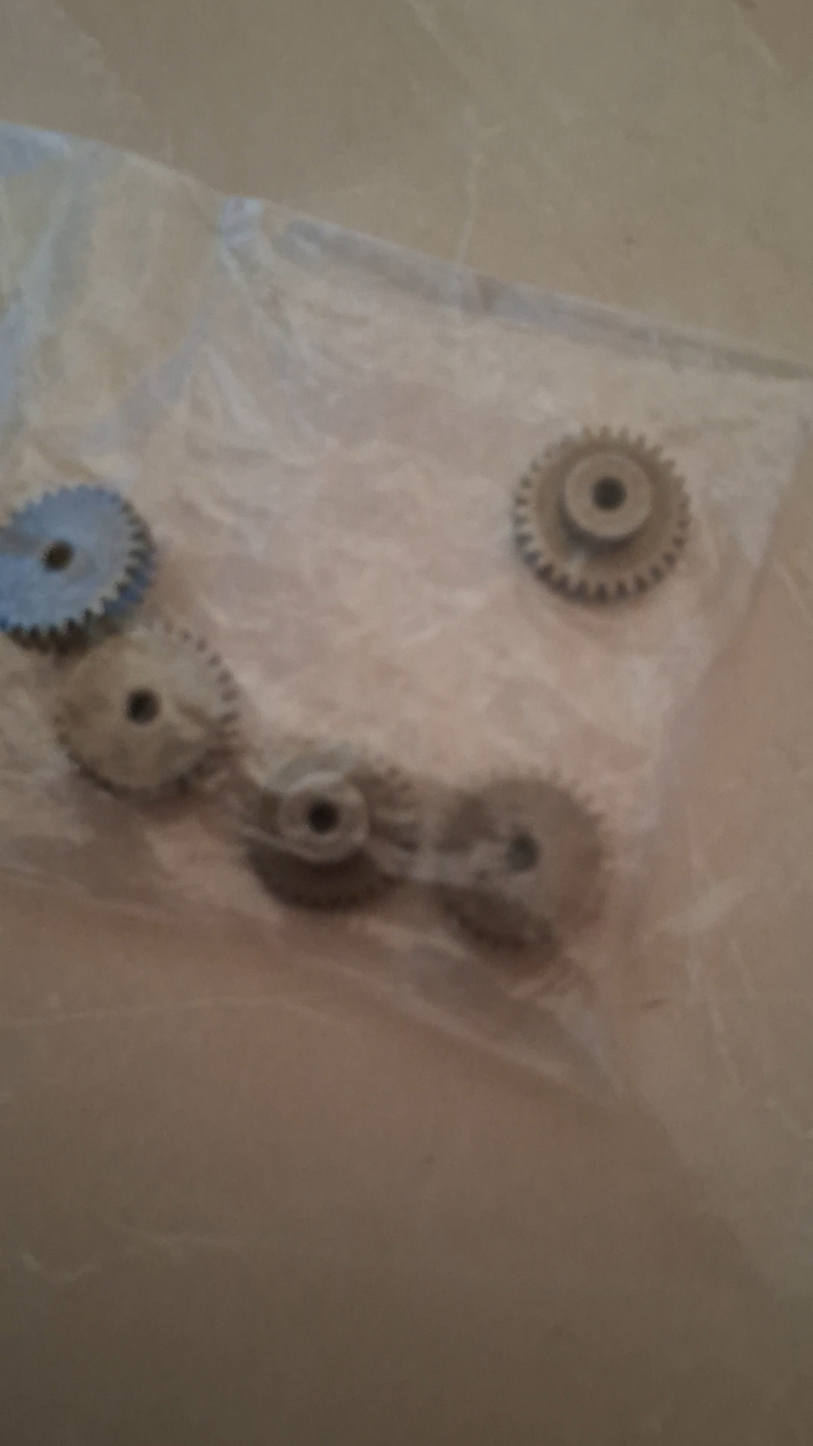spur gear: (57, 624, 237, 797), (514, 429, 689, 601), (241, 740, 419, 909), (436, 778, 603, 957), (0, 485, 154, 647)
